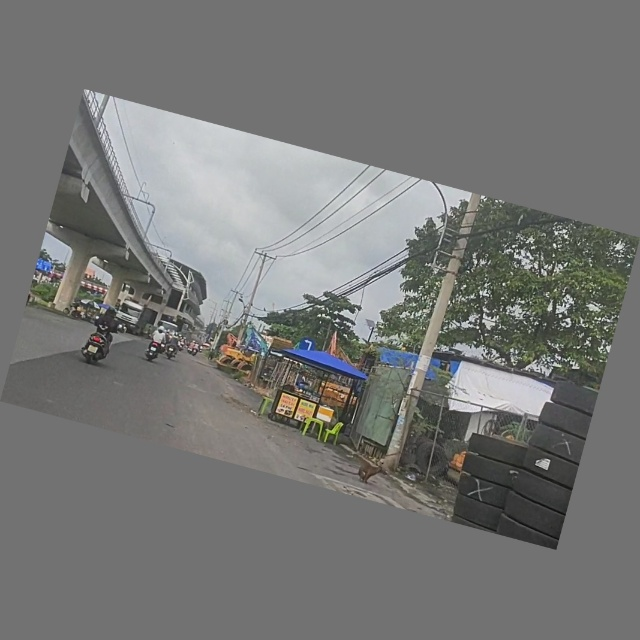R.301e: (299, 337, 316, 354)
